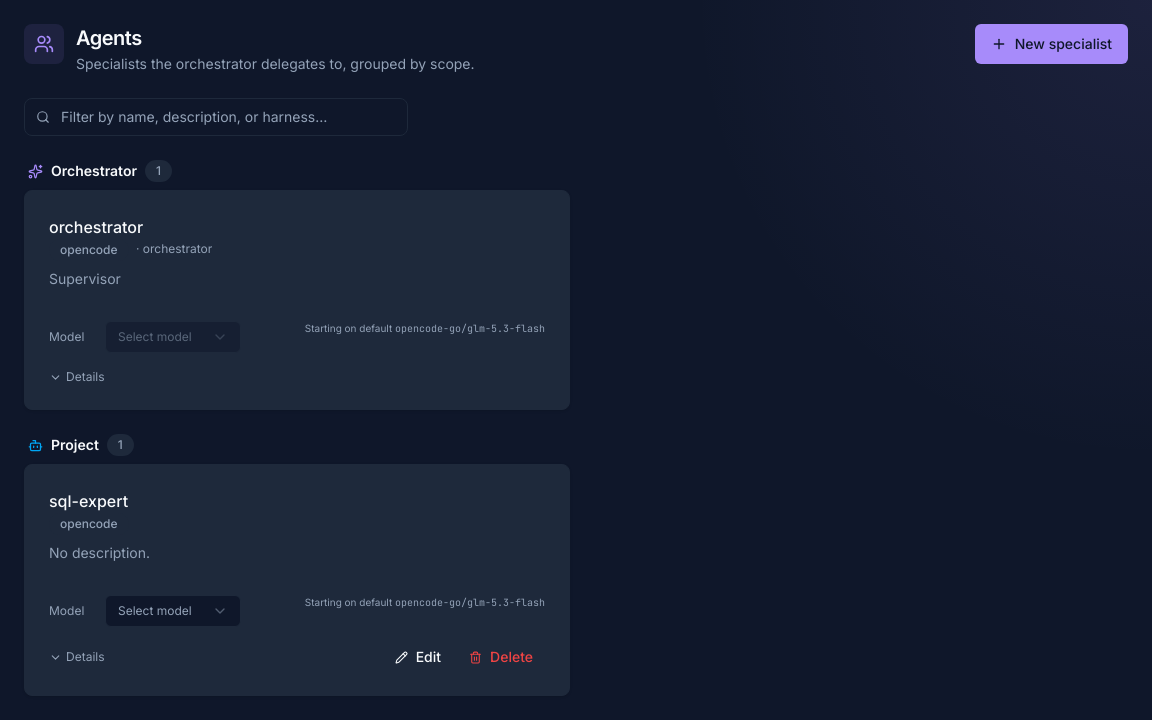
Test: AgentsPage delete confirmation › asks first instead of deleting immediately
Expected: the button with test id "model-picker-project-sql-expert" is shown, [105,595,241,627]
Click the button "Delete": (501, 657) [457,643,545,671]
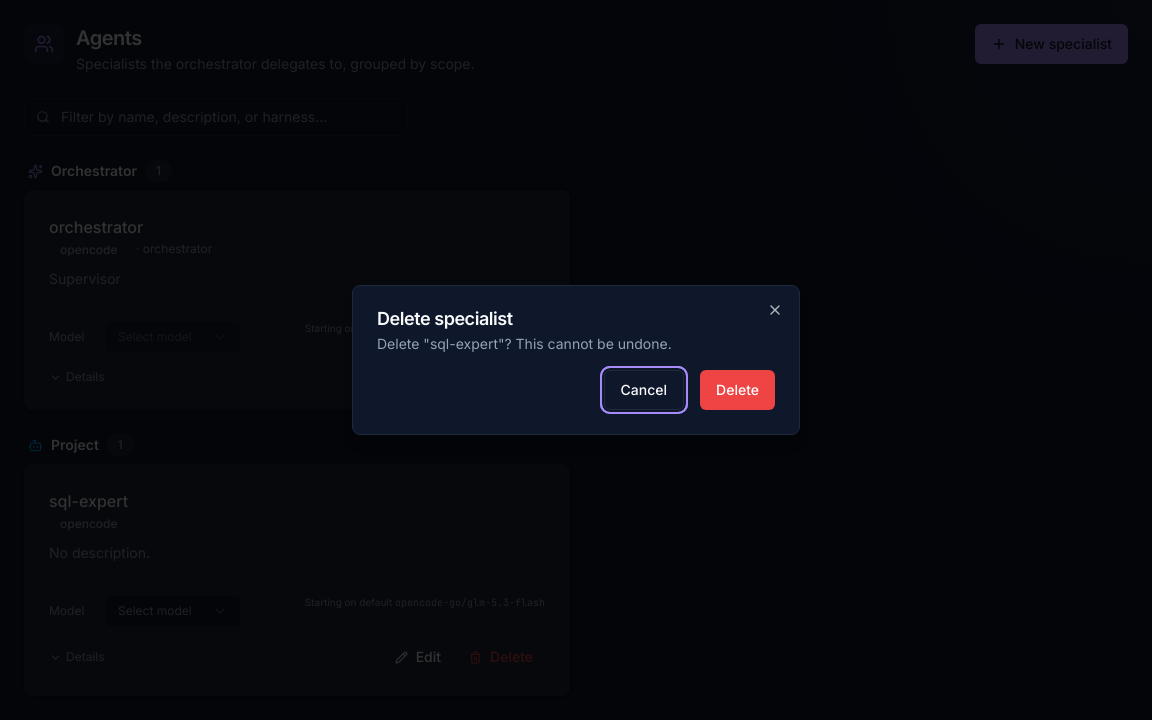
Expected: the dialog with test id "confirm-delete-specialist-dialog" is shown, [352,285,800,435]
